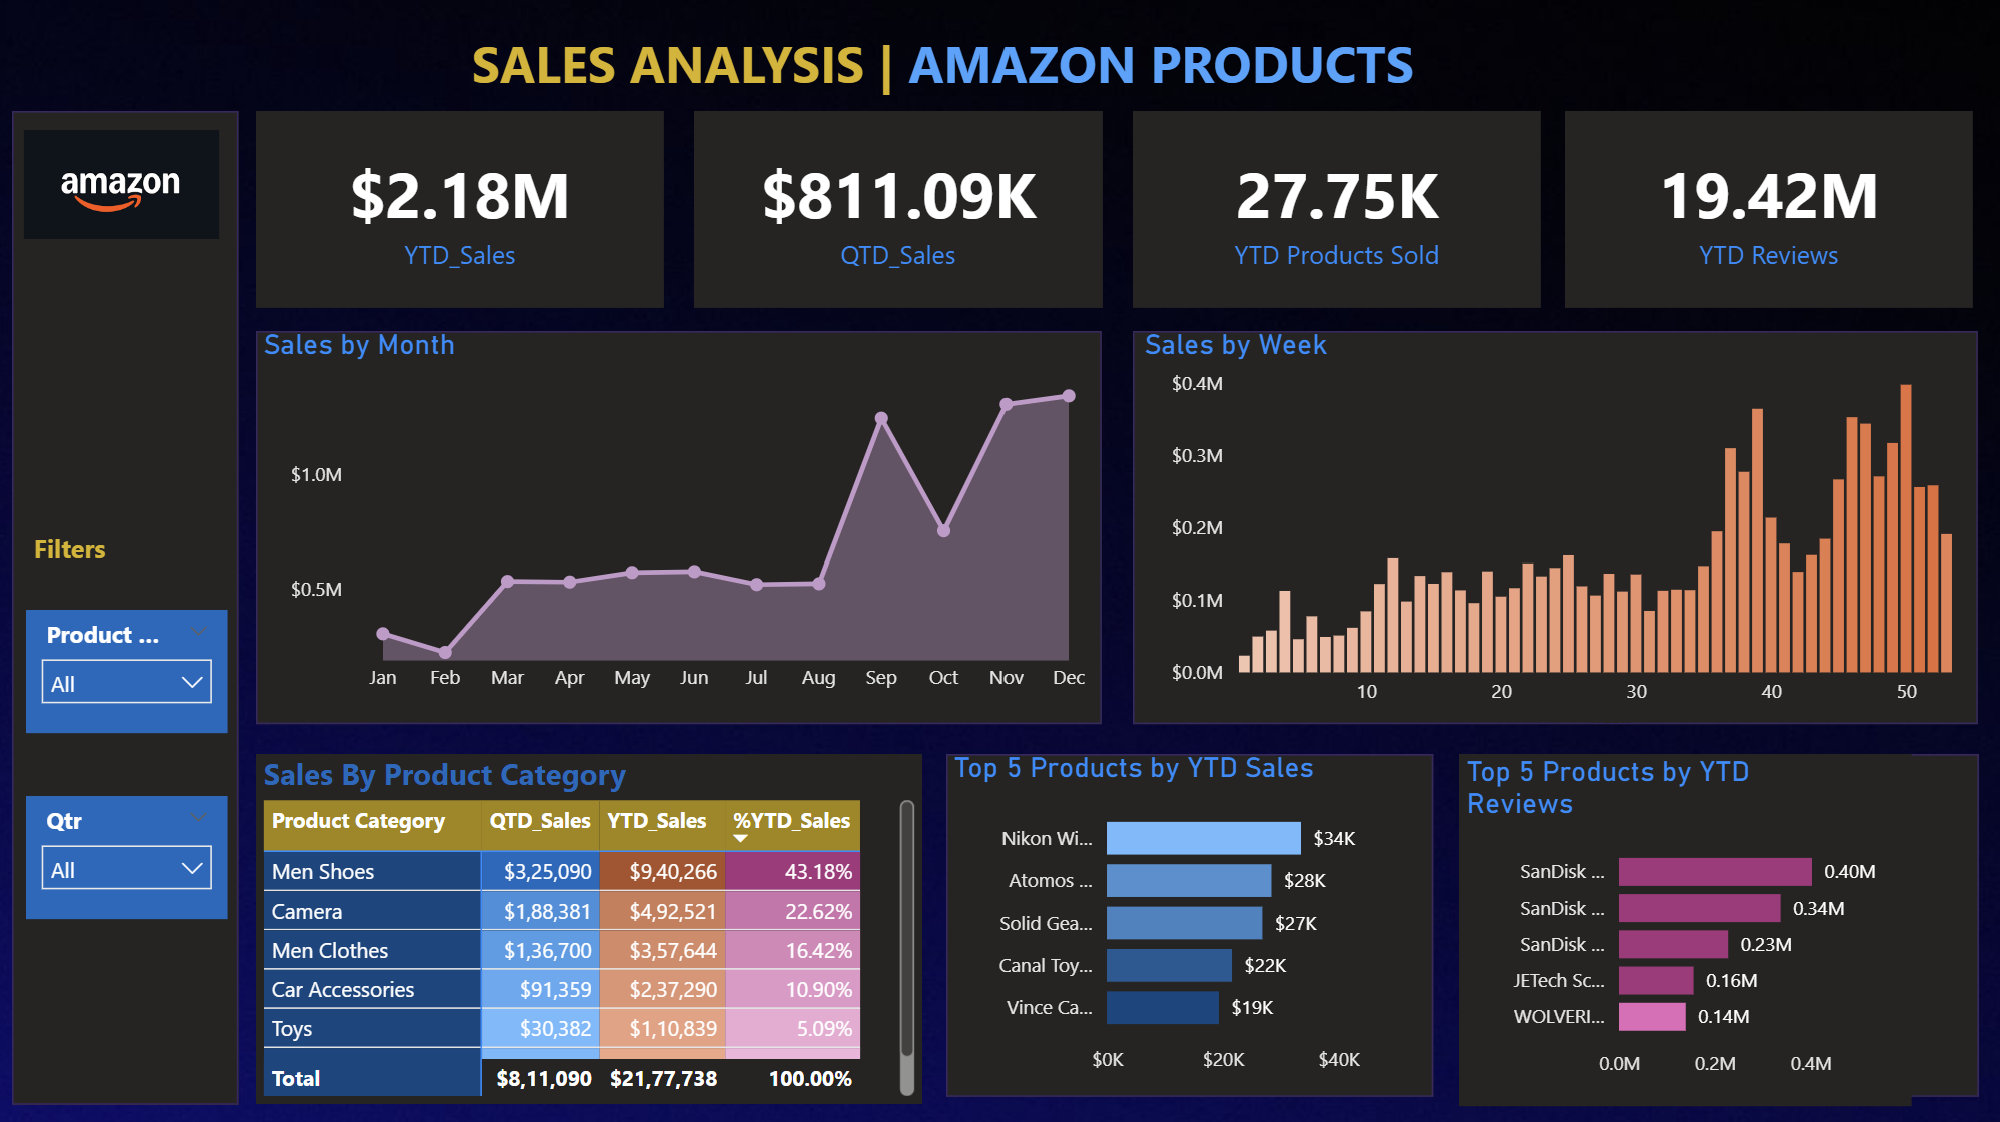

The page's visual inventory and layout, read from the dashboard file:
{"tool":"powerbi","page":{"name":"Page 1","canvas":[1280,720],"ordinal":0},"visuals":[{"type":"textbox","box":[300.1,13.8,670.6,56.7],"z":1000},{"type":"shape","box":[11.4,71.4,144.3,632.9],"z":2000},{"type":"card","fields":{"Values":["Amazon_Data.QTD_Sales"]},"box":[445.7,71.4,260,125.7],"z":3000},{"type":"card","fields":{"Values":["Amazon_Data.YTD_Sales"]},"box":[167.1,71.4,260,125.7],"z":4000},{"type":"card","fields":{"Values":["Amazon_Data.YTD Reviews"]},"box":[1001.4,71.4,260,125.7],"z":5000},{"type":"card","fields":{"Values":["Amazon_Data.YTD Products Sold"]},"box":[725.7,71.4,260,125.7],"z":6000},{"type":"shape","box":[167.1,211.4,538.6,250],"z":7000},{"type":"areaChart","title":"Sales  by Month ","fields":{"Category":["Date Table.Month Name"],"Y":["Amazon_Data.Price(Dollar)"]},"box":[167.1,208.6,538.6,250],"z":8000},{"type":"shape","box":[725.7,211.4,538.6,250],"z":9000},{"type":"columnChart","title":"Sales by Week","fields":{"Category":["Date Table.Week"],"Y":["Amazon_Data.Price(Dollar)"]},"box":[728.6,208.6,545.7,258.6],"z":10000},{"type":"shape","box":[167.1,480,424.3,211.4],"z":11000},{"type":"pivotTable","title":"Sales By Product Category","fields":{"Rows":["Amazon_Data.Product Category"],"Values":["Amazon_Data.QTD_Sales","Amazon_Data.YTD_Sales1","Amazon_Data.YTD_Sales"]},"box":[167.1,480,424.3,222.9],"z":12000},{"type":"shape","box":[607.1,480,310,218.6],"z":12500},{"type":"clusteredBarChart","title":"Top 5 Products by YTD Sales","fields":{"Y":["Amazon_Data.YTD_Sales"],"Category":["Amazon_Data.Product Description"]},"box":[607.1,478.6,288.6,224.3],"z":13000},{"type":"shape","box":[932.9,480,331.4,218.6],"z":15000},{"type":"clusteredBarChart","title":"Top 5 Products by YTD Reviews","fields":{"Y":["Amazon_Data.YTD Reviews"],"Category":["Amazon_Data.Product Description"]},"box":[932.9,480,288.6,224.3],"z":15001},{"type":"slicer","fields":{"Values":["Amazon_Data.Product Category"]},"box":[20,388.6,128.6,78.6],"z":15002},{"type":"slicer","fields":{"Values":["Date Table.Qtr"]},"box":[20,507.1,128.6,78.6],"z":15003},{"type":"image","box":[14.3,51.4,134.3,134.3],"z":15004},{"type":"textbox","box":[20,334.3,72.9,40],"z":15005}]}

Visuals, with their boxes in screenshot pixels (x1, y1, x2, y2), scaled from the page's 1280x720 canvas onto the 2000x1122 screenshot:
textbox: 469,22,1517,110
shape: 18,111,243,1098
card - Amazon_Data.QTD_Sales: 696,111,1103,307
card - Amazon_Data.YTD_Sales: 261,111,667,307
card - Amazon_Data.YTD Reviews: 1565,111,1971,307
card - Amazon_Data.YTD Products Sold: 1134,111,1540,307
shape: 261,329,1103,719
"Sales  by Month " areaChart: 261,325,1103,715
shape: 1134,329,1975,719
"Sales by Week" columnChart: 1138,325,1991,728
shape: 261,748,924,1077
"Sales By Product Category" pivotTable: 261,748,924,1095
shape: 949,748,1433,1089
"Top 5 Products by YTD Sales" clusteredBarChart: 949,746,1400,1095
shape: 1458,748,1975,1089
"Top 5 Products by YTD Reviews" clusteredBarChart: 1458,748,1909,1098
slicer - Amazon_Data.Product Category: 31,606,232,728
slicer - Date Table.Qtr: 31,790,232,913
image: 22,80,232,289
textbox: 31,521,145,583
